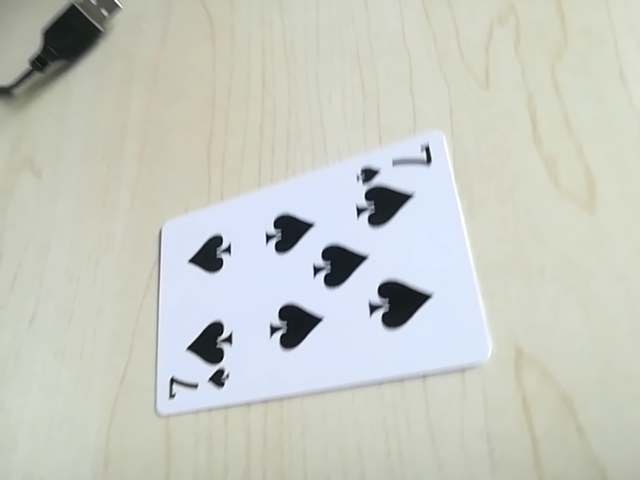ht 7: (353, 145, 445, 183), (158, 363, 233, 406)
